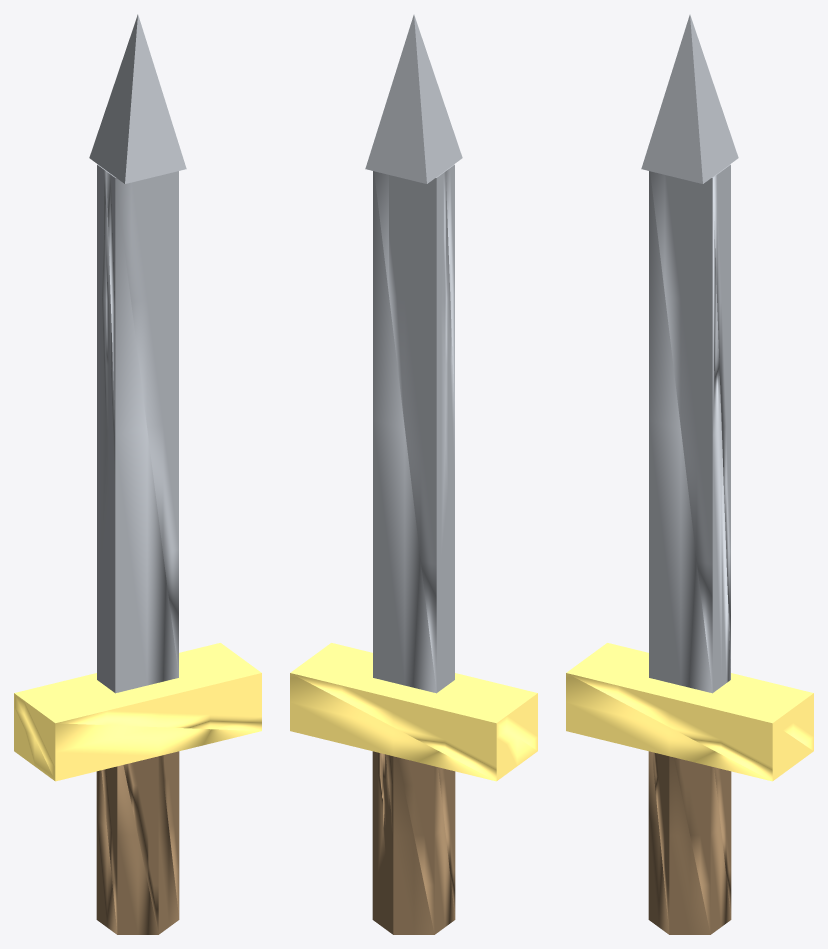
Rendered from dagger.glb.
3 views of the same model, side by side, from view 1: azimuth 30°, elevation 25°; view 2: azimuth 150°, elevation 25°; view 3: azimuth 330°, elevation 25° (orthographic).
Visible parts, largest first — view 1: DaggerGrip; view 2: DaggerGrip; view 3: DaggerGrip.
Part boxes in pixels (box(x1,y1,x2,y2)): DaggerGrip: box(14, 14, 261, 934); DaggerGrip: box(290, 14, 537, 934); DaggerGrip: box(566, 14, 813, 934).
Size of the model in its own units: 0.26 by 1.09 by 0.09.
